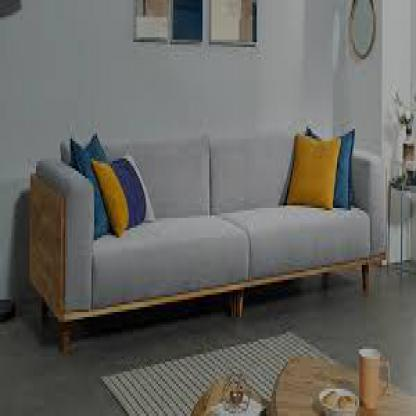sofa: (16, 124, 386, 337)
